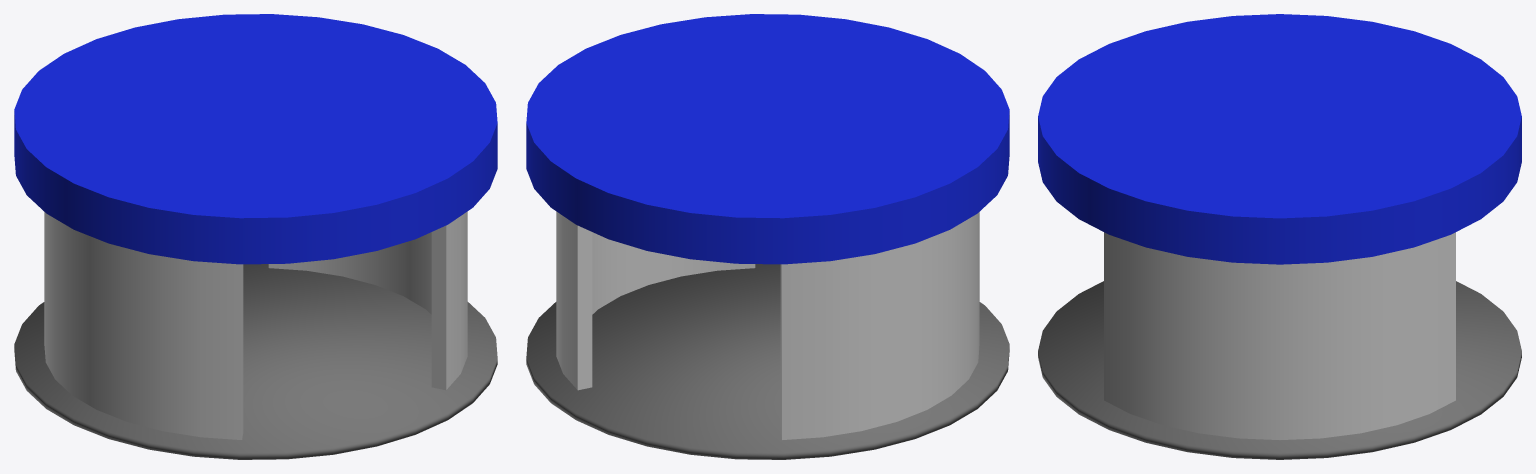
Rendered from Entrada.fbx.
3 views of the same model, side by side, from view 1: azimuth 30°, elevation 25°; view 2: azimuth 150°, elevation 25°; view 3: azimuth 270°, elevation 25° (orthographic).
Parts seen in each view (by area): view 1: Entrada; view 2: Entrada; view 3: Entrada.
Part boxes in pixels (x1,y1,x2,y2): Entrada: [14, 14, 497, 459]; Entrada: [526, 14, 1009, 459]; Entrada: [1038, 14, 1521, 459].
Bounding box in the file's own units: 1280 × 705 × 1280.
